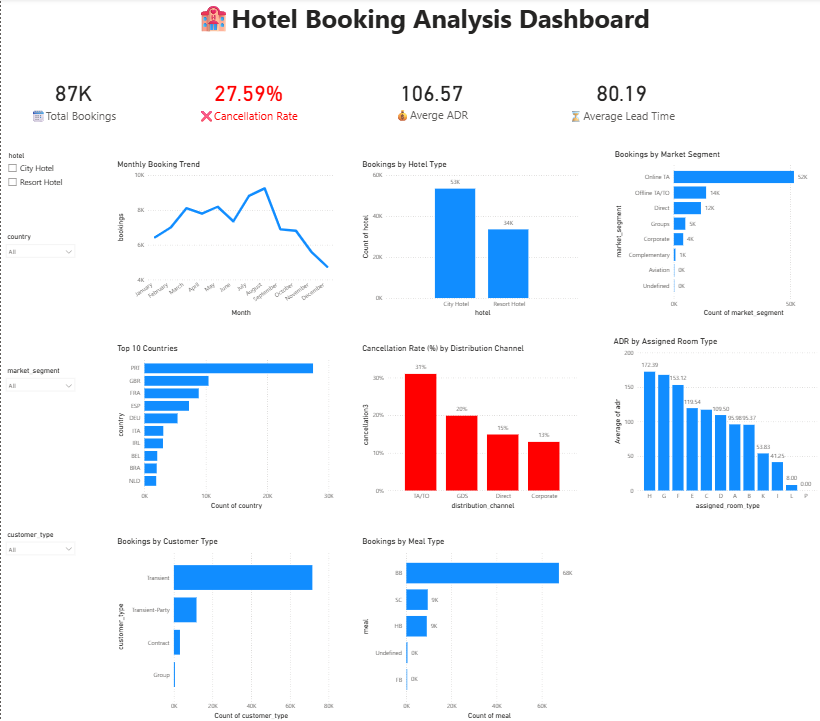

The dashboard page shown, as its layout file describes it:
{"tool":"powerbi","page":{"name":"Page 1","canvas":[1700,1500],"ordinal":0},"visuals":[{"type":"clusteredColumnChart","title":"Bookings by Hotel Type","fields":{"Category":["hotel_bookings.hotel"],"Y":["CountNonNull(hotel_bookings.hotel)"]},"box":[743.8,334.3,458.7,331.7],"z":0},{"type":"card","fields":{"Values":["hotel_bookings.canellation_rate"]},"box":[368,145.1,290.3,127],"z":1000},{"type":"clusteredBarChart","title":"Top 10 Countries","fields":{"Category":["hotel_bookings.country"],"Y":["CountNonNull(hotel_bookings.country)"]},"box":[235.8,715.3,458.7,349.9],"z":2000},{"type":"clusteredBarChart","title":"Bookings by Market Segment ","fields":{"Category":["hotel_bookings.market_segment"],"Y":["CountNonNull(hotel_bookings.market_segment)"]},"box":[1267.3,313.6,432.8,352.5],"z":3000},{"type":"clusteredBarChart","title":"Bookings by Customer Type","fields":{"Category":["hotel_bookings.customer_type"],"Y":["CountNonNull(hotel_bookings.customer_type)"]},"box":[235.8,1117,458.7,383.6],"z":4000},{"type":"clusteredColumnChart","title":"ADR by Assigned Room Type","fields":{"Category":["hotel_bookings.assigned_room_type"],"Y":["Avg(hotel_bookings.adr)"]},"box":[1264.7,702.3,432.8,362.8],"z":5000},{"type":"clusteredColumnChart","title":"Cancellation Rate (%)  by Distribution Channel","fields":{"Category":["hotel_bookings.distribution_channel"],"Y":["hotel_bookings.cancellation3"]},"box":[743.8,715.3,456.1,349.9],"z":6000},{"type":"clusteredBarChart","title":"Bookings by Meal Type ","fields":{"Category":["hotel_bookings.meal"],"Y":["CountNonNull(hotel_bookings.meal)"]},"box":[743.8,1117,456.1,383.6],"z":7000},{"type":"card","fields":{"Values":["hotel_bookings.total bookings"]},"box":[0,145.1,300.6,127],"z":8000},{"type":"card","fields":{"Values":["hotel_bookings.avg_adr"]},"box":[767.1,145.1,251.4,124.4],"z":9000},{"type":"card","fields":{"Values":["hotel_bookings.avg_lead"]},"box":[1132.5,145.1,308.4,127],"z":10000},{"type":"lineChart","title":"Monthly Booking Trend","fields":{"Category":["hotel_bookings.reservation_status_date.Variation.Date Hierarchy.Month"],"Y":["CountNonNull(hotel_bookings.hotel)"]},"box":[235.8,334.3,458.7,331.7],"z":11000},{"type":"slicer","fields":{"Values":["hotel_bookings.hotel"]},"box":[2.6,313.6,160.7,114],"z":12000},{"type":"slicer","fields":{"Values":["hotel_bookings.country"]},"box":[0,482,163.3,202.1],"z":13000},{"type":"slicer","fields":{"Values":["hotel_bookings.market_segment"]},"box":[0,759.3,163.3,261.7],"z":14000},{"type":"slicer","fields":{"Values":["hotel_bookings.customer_type"]},"box":[0,1098.8,163.3,344.7],"z":15000},{"type":"textbox","box":[399.1,0,1148.1,119.2],"z":16000}]}

Visuals, with their boxes in screenshot pixels (x1, y1, x2, y2), scaled from the page's 1700x1500 canvas onto the 820x721 screenshot:
"Bookings by Hotel Type" clusteredColumnChart: 359:161:580:320
card - hotel_bookings.canellation_rate: 178:70:318:131
"Top 10 Countries" clusteredBarChart: 114:344:335:512
"Bookings by Market Segment " clusteredBarChart: 611:151:819:320
"Bookings by Customer Type" clusteredBarChart: 114:537:335:720
"ADR by Assigned Room Type" clusteredColumnChart: 610:338:819:512
"Cancellation Rate (%)  by Distribution Channel" clusteredColumnChart: 359:344:579:512
"Bookings by Meal Type " clusteredBarChart: 359:537:579:720
card - hotel_bookings.total bookings: 0:70:145:131
card - hotel_bookings.avg_adr: 370:70:491:130
card - hotel_bookings.avg_lead: 546:70:695:131
"Monthly Booking Trend" lineChart: 114:161:335:320
slicer - hotel_bookings.hotel: 1:151:79:206
slicer - hotel_bookings.country: 0:232:79:329
slicer - hotel_bookings.market_segment: 0:365:79:491
slicer - hotel_bookings.customer_type: 0:528:79:694
textbox: 193:0:746:57
